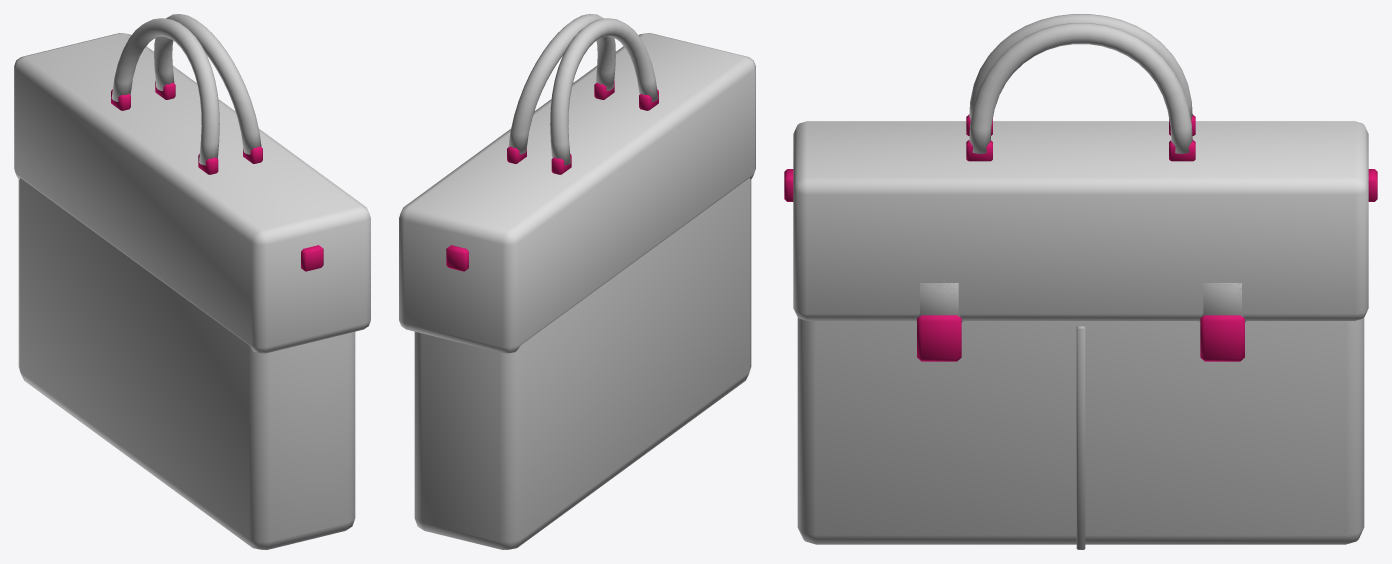
Rendered from accessory_briefcase.glb.
3 renders of one model, left to right at view 1: azimuth 30°, elevation 25°; view 2: azimuth 150°, elevation 25°; view 3: azimuth 270°, elevation 25°, orthographic. The views are drawn at different scales.
Visible parts, largest first — view 1: garment_accessory_briefcase; view 2: garment_accessory_briefcase; view 3: garment_accessory_briefcase.
Boxes of the visible parts, x1=… form: garment_accessory_briefcase: x1=14, y1=14, x2=370, y2=549; garment_accessory_briefcase: x1=399, y1=14, x2=755, y2=549; garment_accessory_briefcase: x1=784, y1=14, x2=1377, y2=549.
Bounding box in the file's own units: 0.1095 × 0.372 × 0.398.
